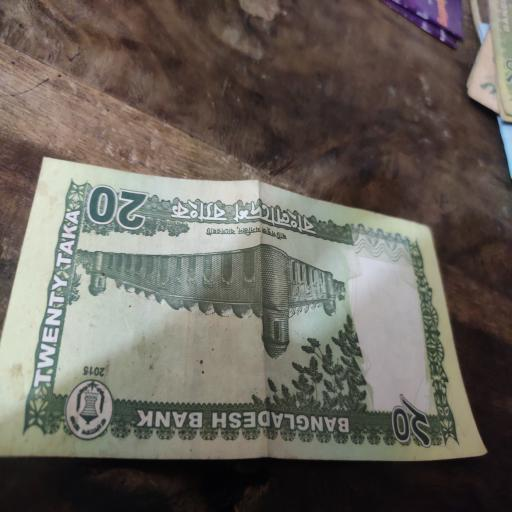20taka: (1, 155, 484, 453)
